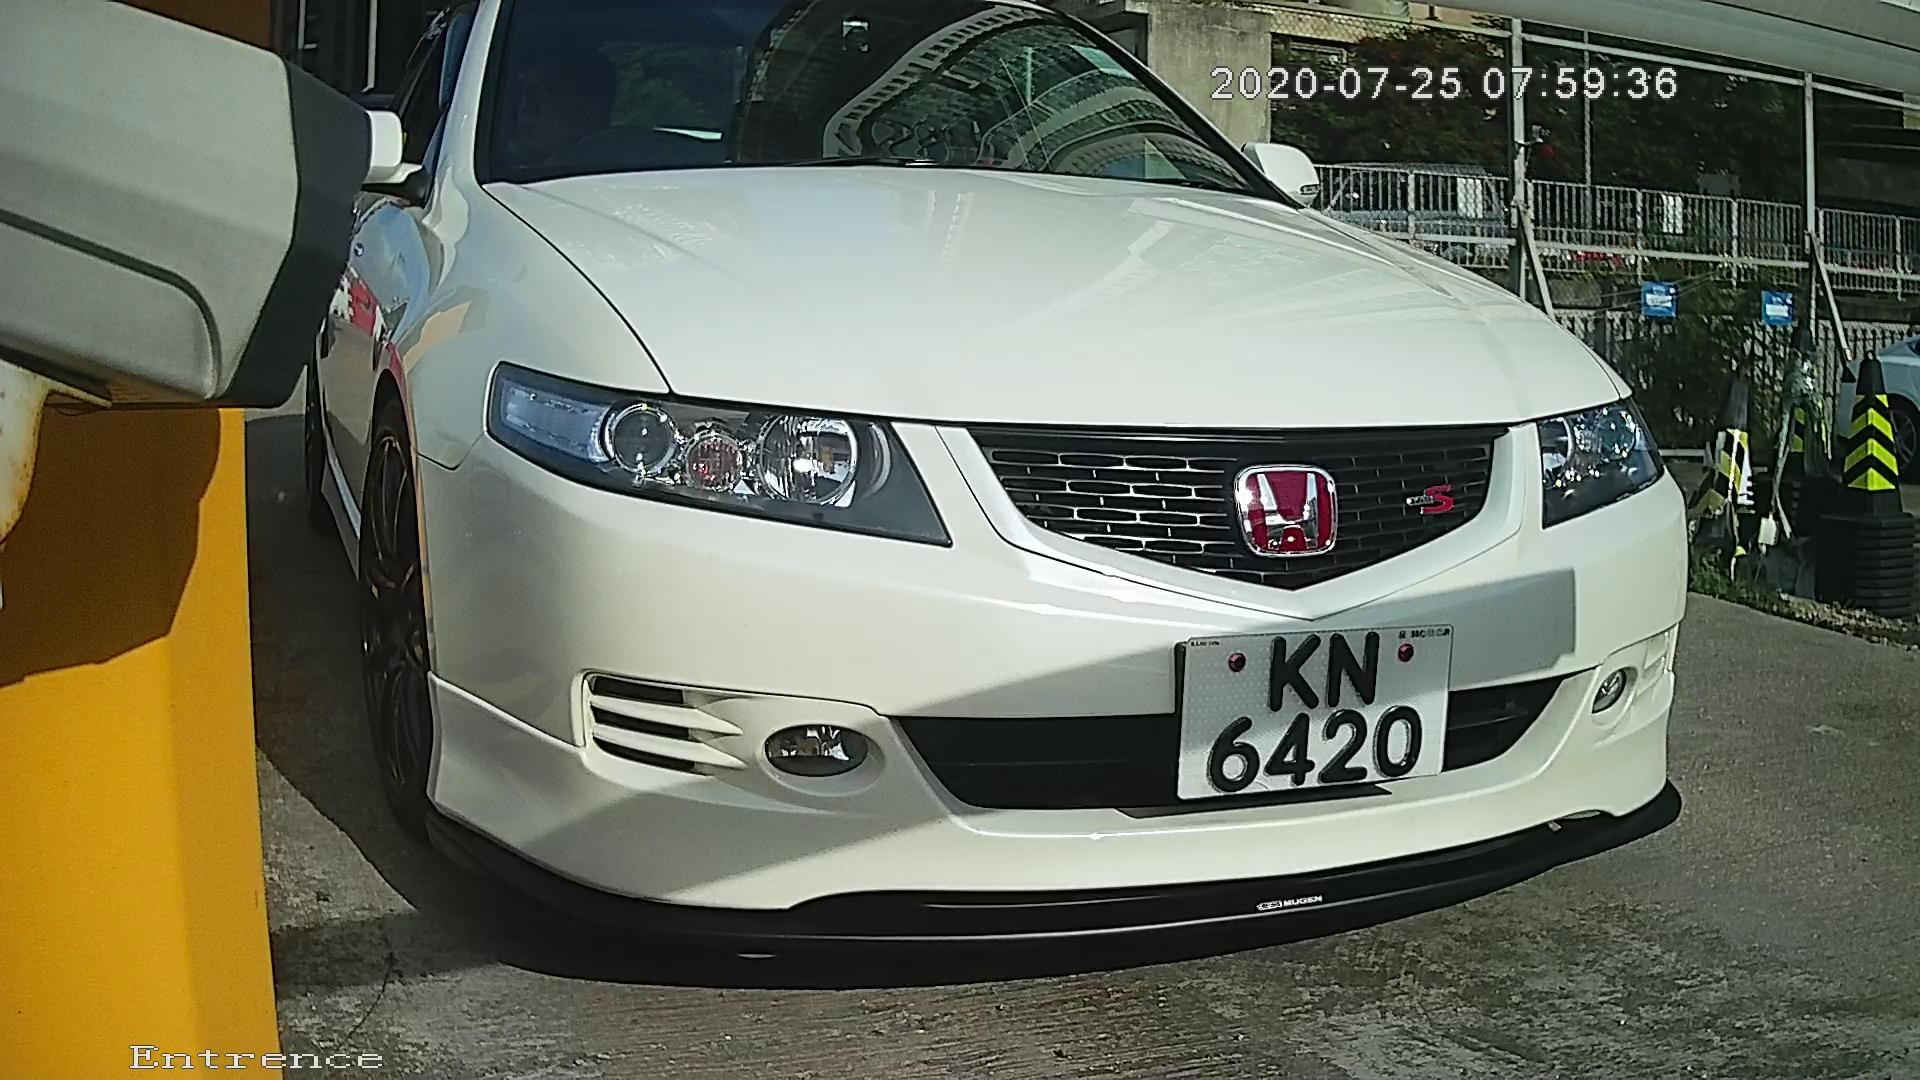License Plate: (1158, 594, 1458, 820)
